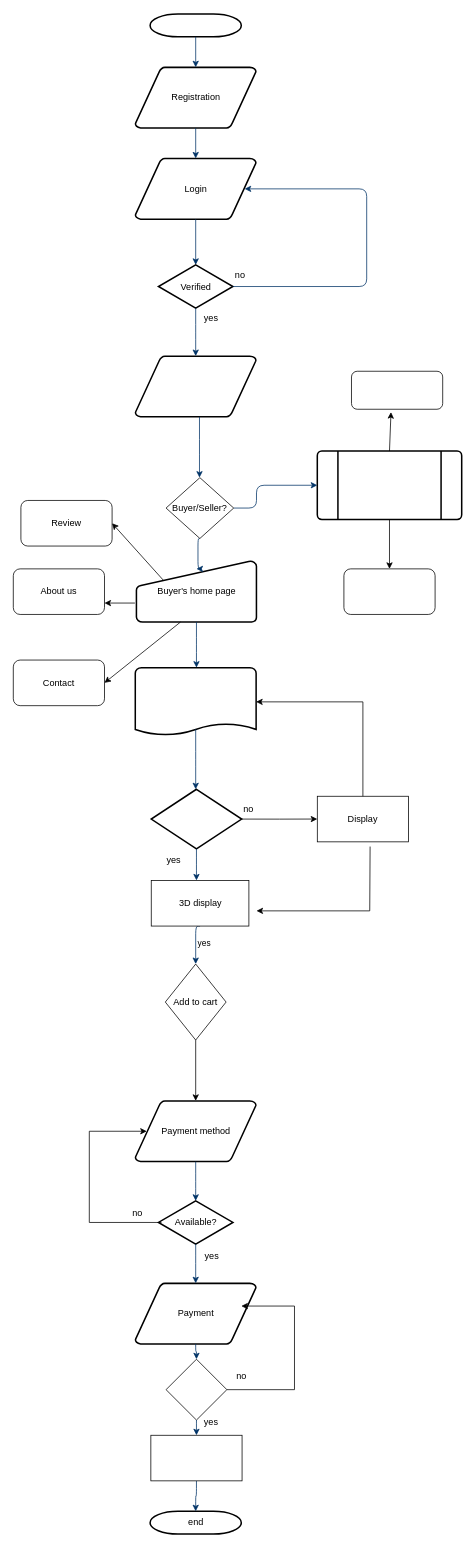
Image size: 476x1547. Some labels were removed from this diagram. Each missing label, with the centre of its shape:
"Assign Delivery" belongs at point (196, 1457).
"Available" belongs at point (196, 818).
"Completed?" belongs at point (196, 1389).
"Home page" belongs at point (195, 386).
"Search Product" belongs at point (195, 701).
"Seller's Homepage" belongs at point (389, 485).
"start" belongs at point (195, 25).
